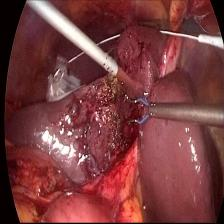Bipolar: (121, 92, 159, 129)
Irrigator: (94, 46, 120, 78)
Specimen Bag: (43, 53, 80, 107)
